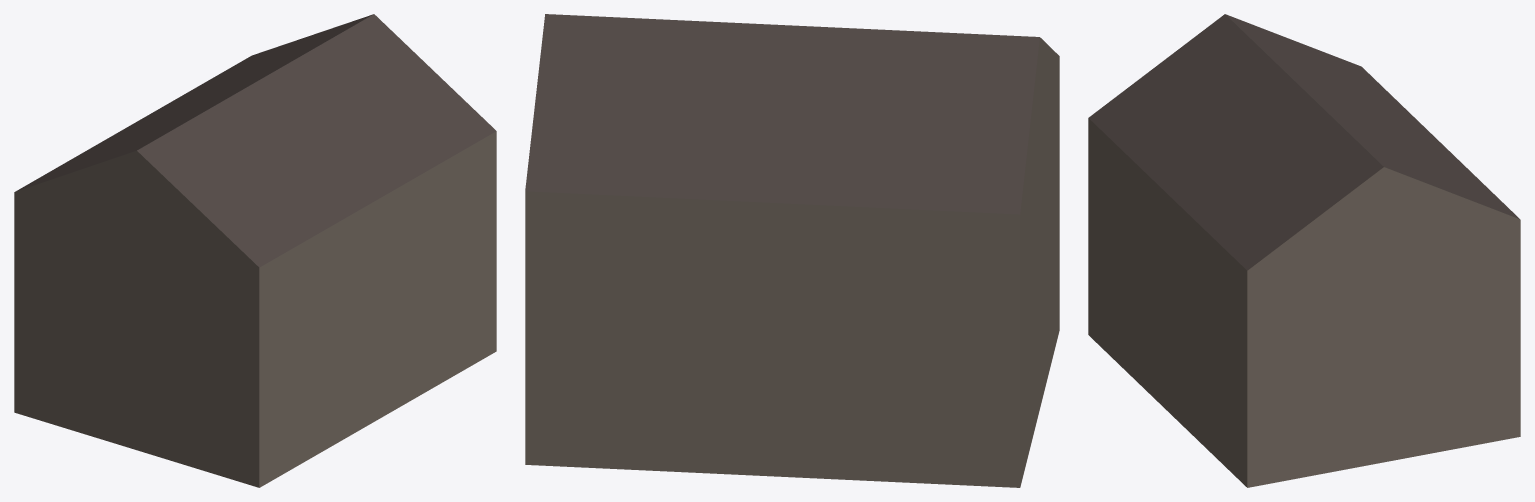
The picture shows the model from 3 angles, left to right: view 1: azimuth 30°, elevation 25°; view 2: azimuth 150°, elevation 25°; view 3: azimuth 270°, elevation 25°; orthographic projection. The views are drawn at different scales.
Visible parts, largest first — view 1: HP-w378107101; view 2: HP-w378107101; view 3: HP-w378107101.
Part boxes in pixels (x1=…): HP-w378107101: x1=14, y1=14, x2=496, y2=487; HP-w378107101: x1=525, y1=14, x2=1059, y2=487; HP-w378107101: x1=1088, y1=14, x2=1520, y2=487.
Size of the model in its own units: 12.1 by 8.16 by 10.82.
